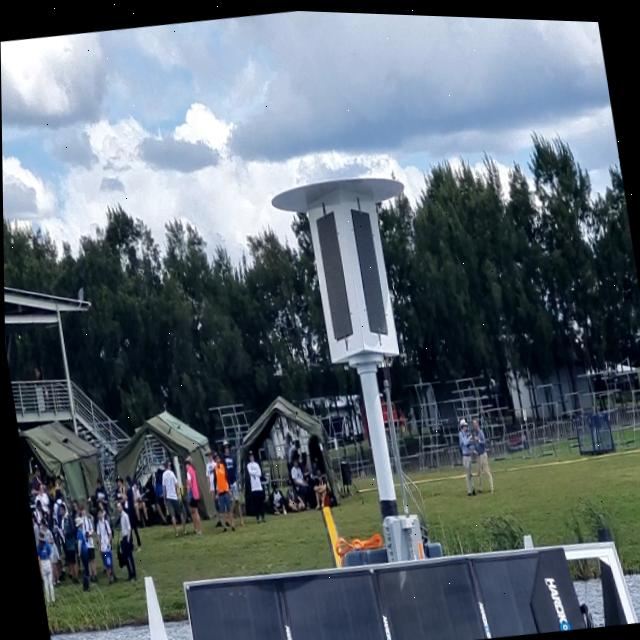led: (343, 190, 393, 347), (309, 201, 359, 347)
